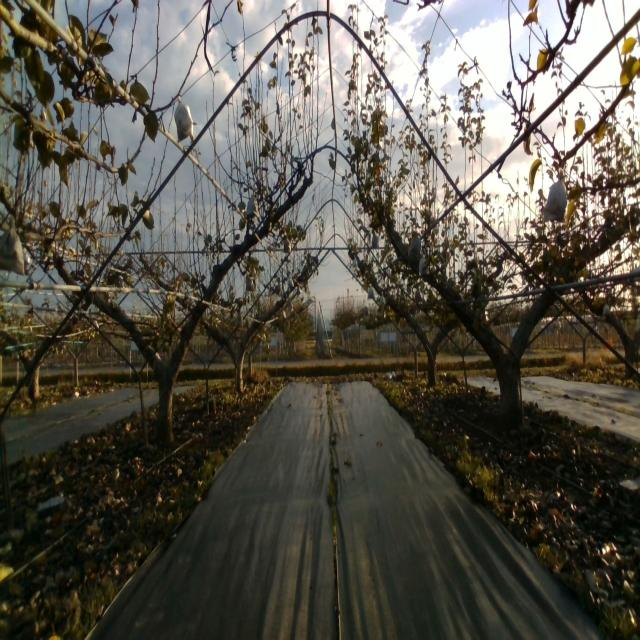pearbags: (543, 169, 568, 222), (174, 95, 194, 142), (246, 191, 261, 221), (407, 231, 421, 258), (419, 256, 430, 276)
